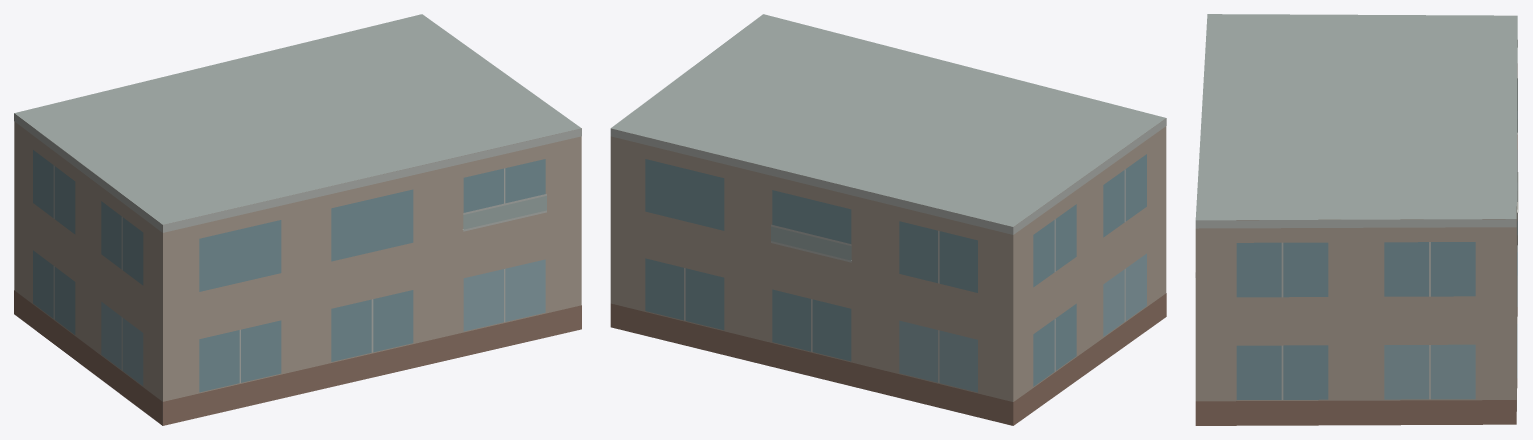
Rendered from survey-upis-32489157.glb.
The picture shows the model from 3 angles, left to right: view 1: azimuth 30°, elevation 25°; view 2: azimuth 150°, elevation 25°; view 3: azimuth 270°, elevation 25°; orthographic projection. The views are drawn at different scales.
Parts seen in each view (by area): view 1: survey-upis-32489157.tmp; view 2: survey-upis-32489157.tmp; view 3: survey-upis-32489157.tmp.
Part boxes in pixels (box(x1,y1,x2,y2)): survey-upis-32489157.tmp: box(14, 14, 581, 425); survey-upis-32489157.tmp: box(610, 14, 1166, 425); survey-upis-32489157.tmp: box(1195, 14, 1518, 425).
Size of the model in its own units: 13.14 by 6.1 by 8.7.
